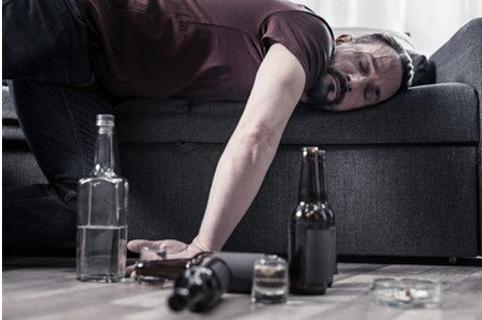Drunk: (320, 46, 403, 108)
